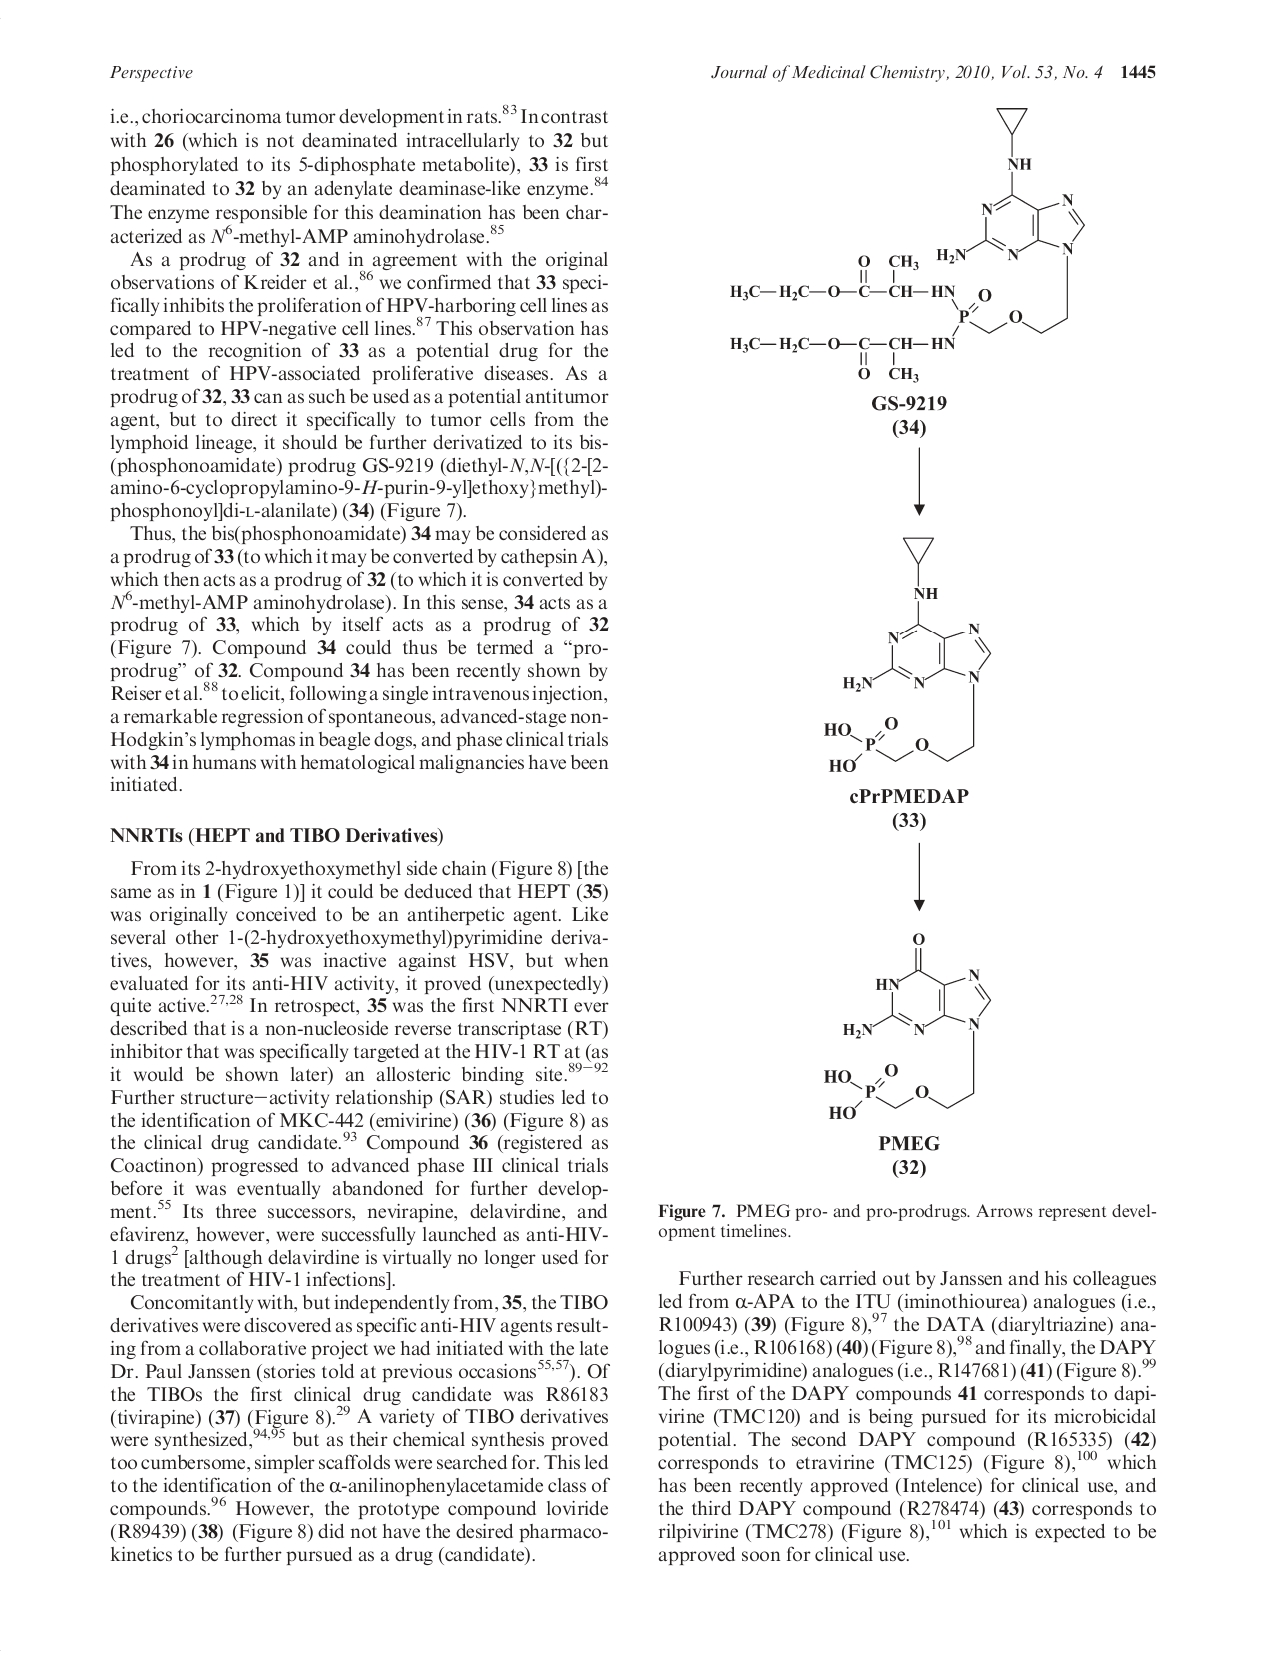exist_molecular: (727, 106, 1089, 383), (826, 535, 993, 775), (821, 931, 993, 1120)
